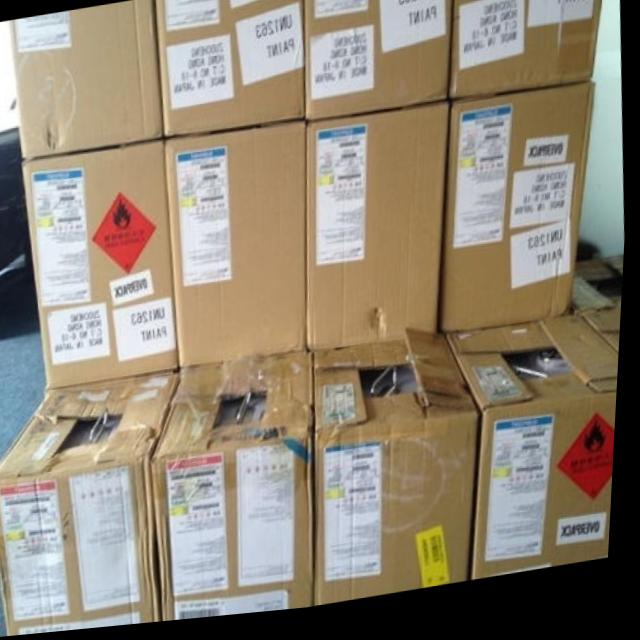box: (0, 372, 180, 637), (450, 325, 623, 588), (317, 342, 486, 610), (155, 354, 319, 625), (25, 141, 182, 389), (443, 90, 597, 342), (308, 106, 453, 356), (163, 128, 308, 373), (7, 0, 165, 158), (154, 0, 304, 143), (303, 0, 452, 128), (451, 0, 605, 107), (576, 276, 626, 375), (578, 270, 626, 306), (600, 262, 627, 295)
